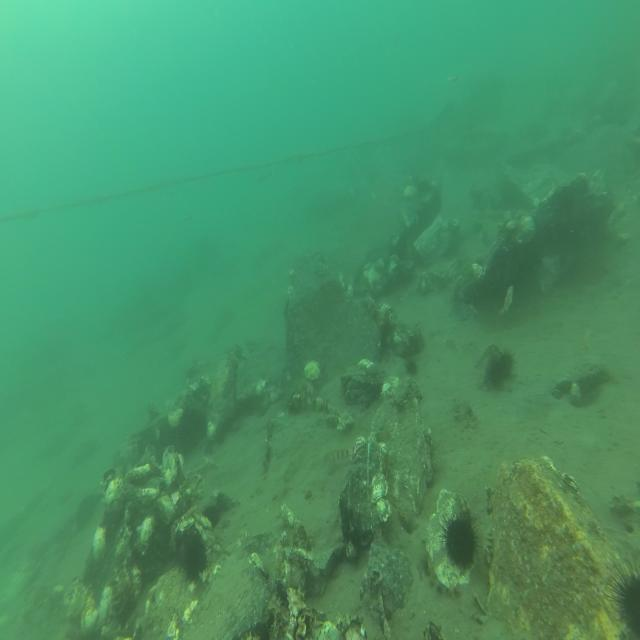echinus: (604, 550, 640, 640), (438, 502, 484, 570), (181, 527, 210, 583), (489, 359, 504, 387), (502, 351, 518, 377), (202, 506, 219, 528), (403, 359, 419, 375)
